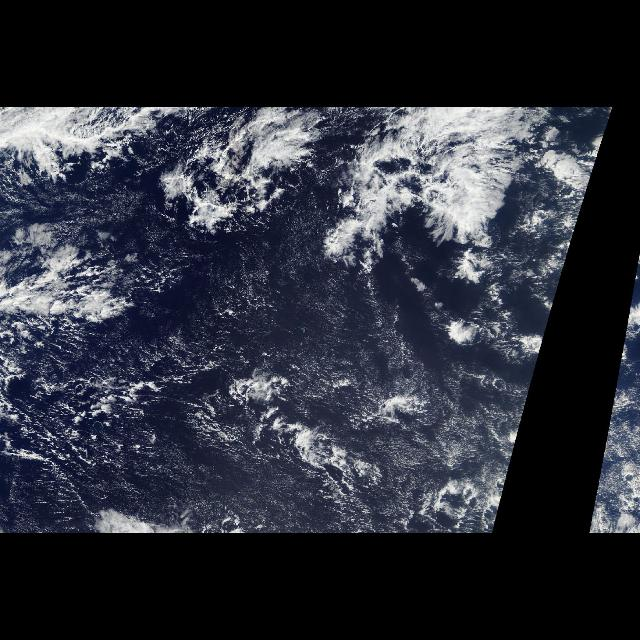Fish: (34, 110, 546, 522)
Gravel: (2, 334, 186, 502)
Sugar: (144, 249, 484, 533)
